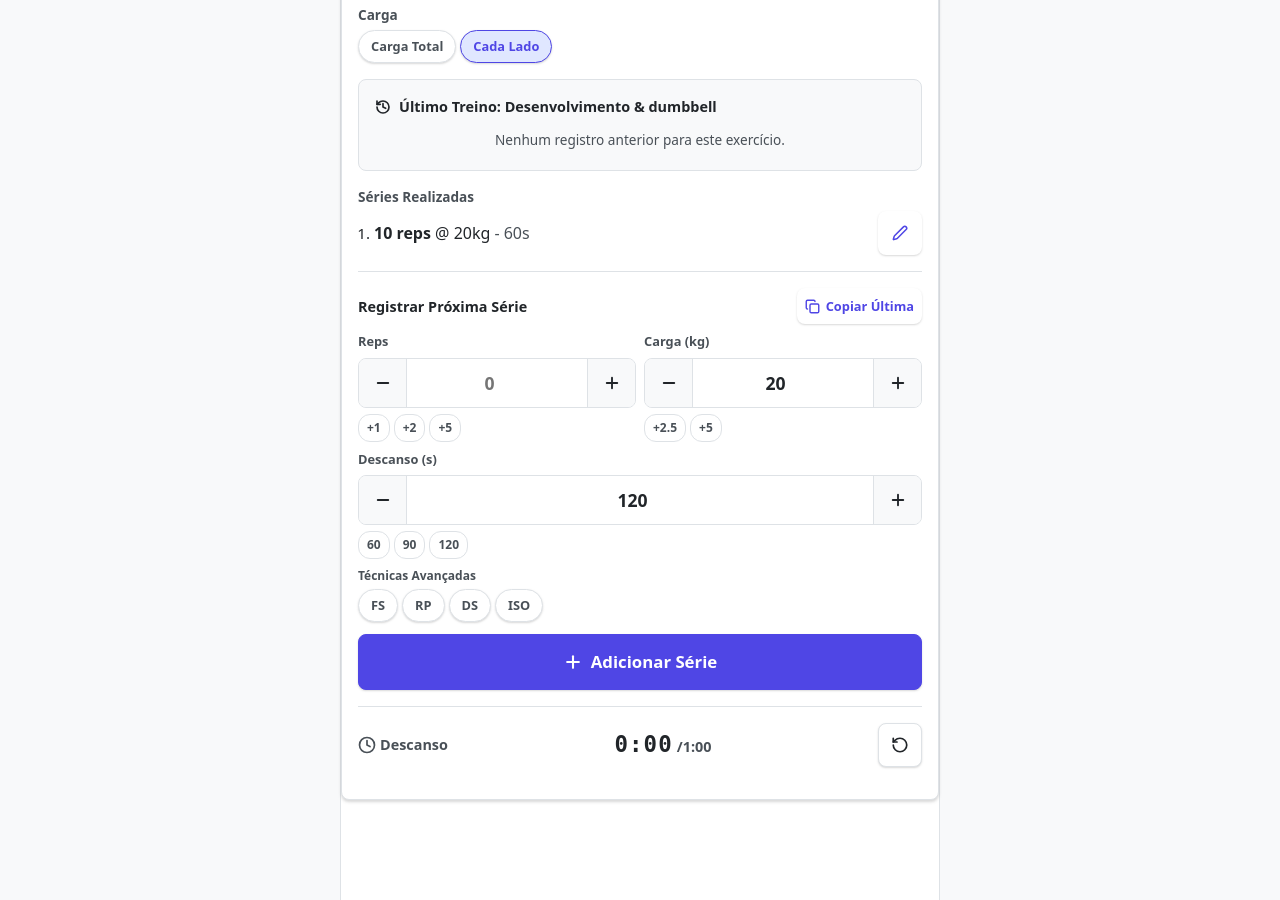
ExerciseScreen — registro de séries › fecha o diálogo de erro ao clicar em Entendido
(page scrolled)
Click the button "Adicionar Série". click: (640, 662)
box: [358,634,922,690]
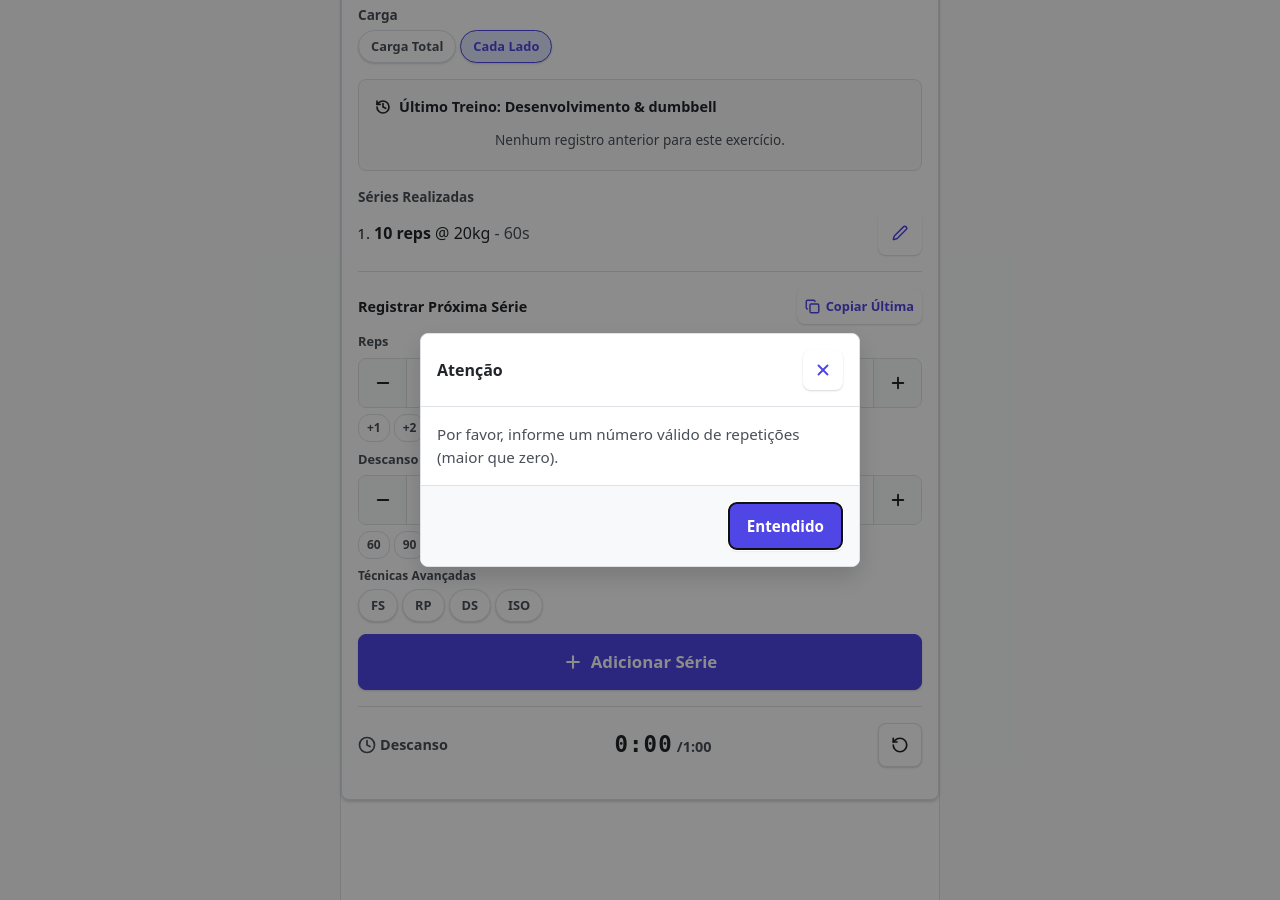
Expected: the heading "Atenção" is shown, [437,358,503,382]
Click the button "Entendido". click: (785, 526)
box: [728,502,843,550]
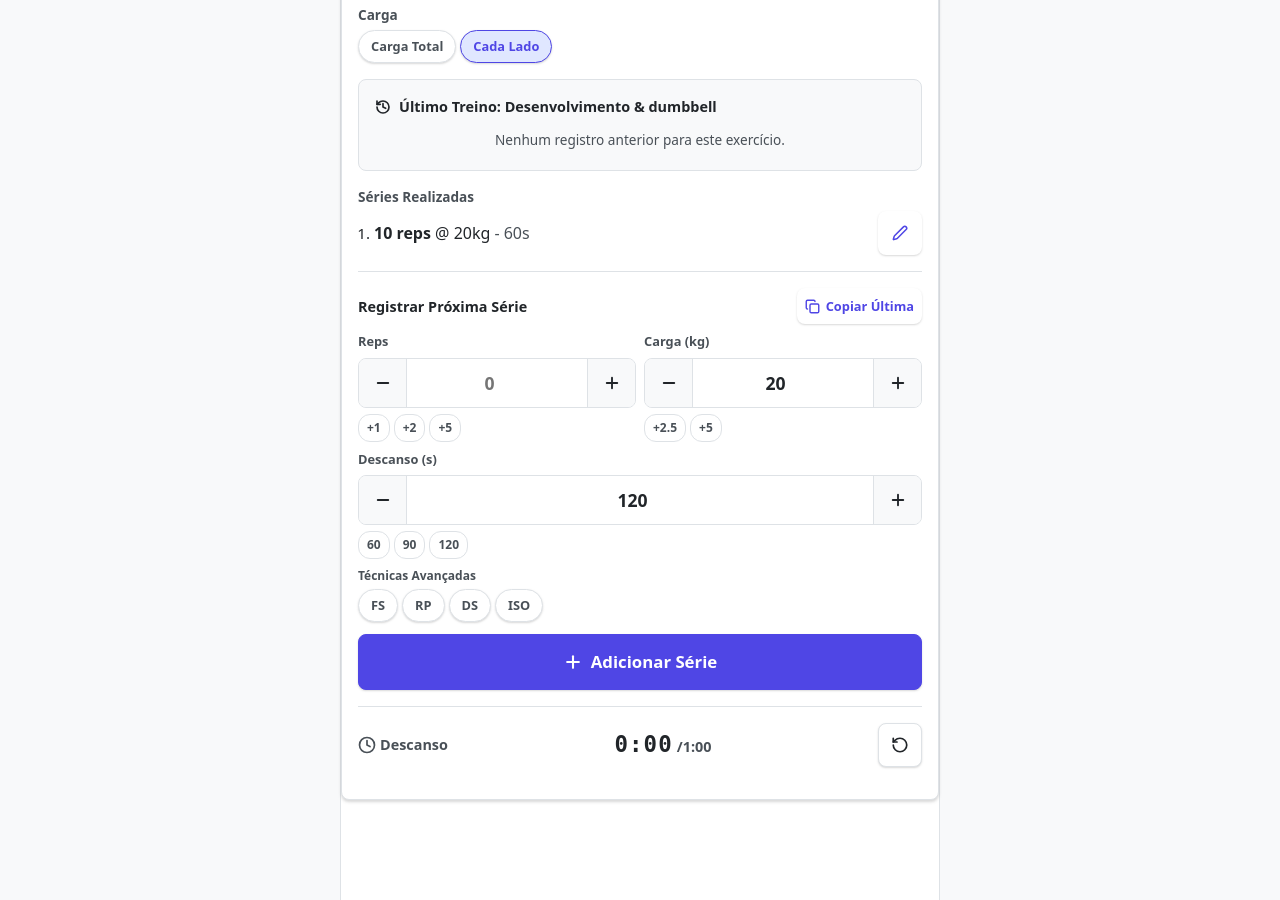
Expected: the heading "Atenção" is gone
